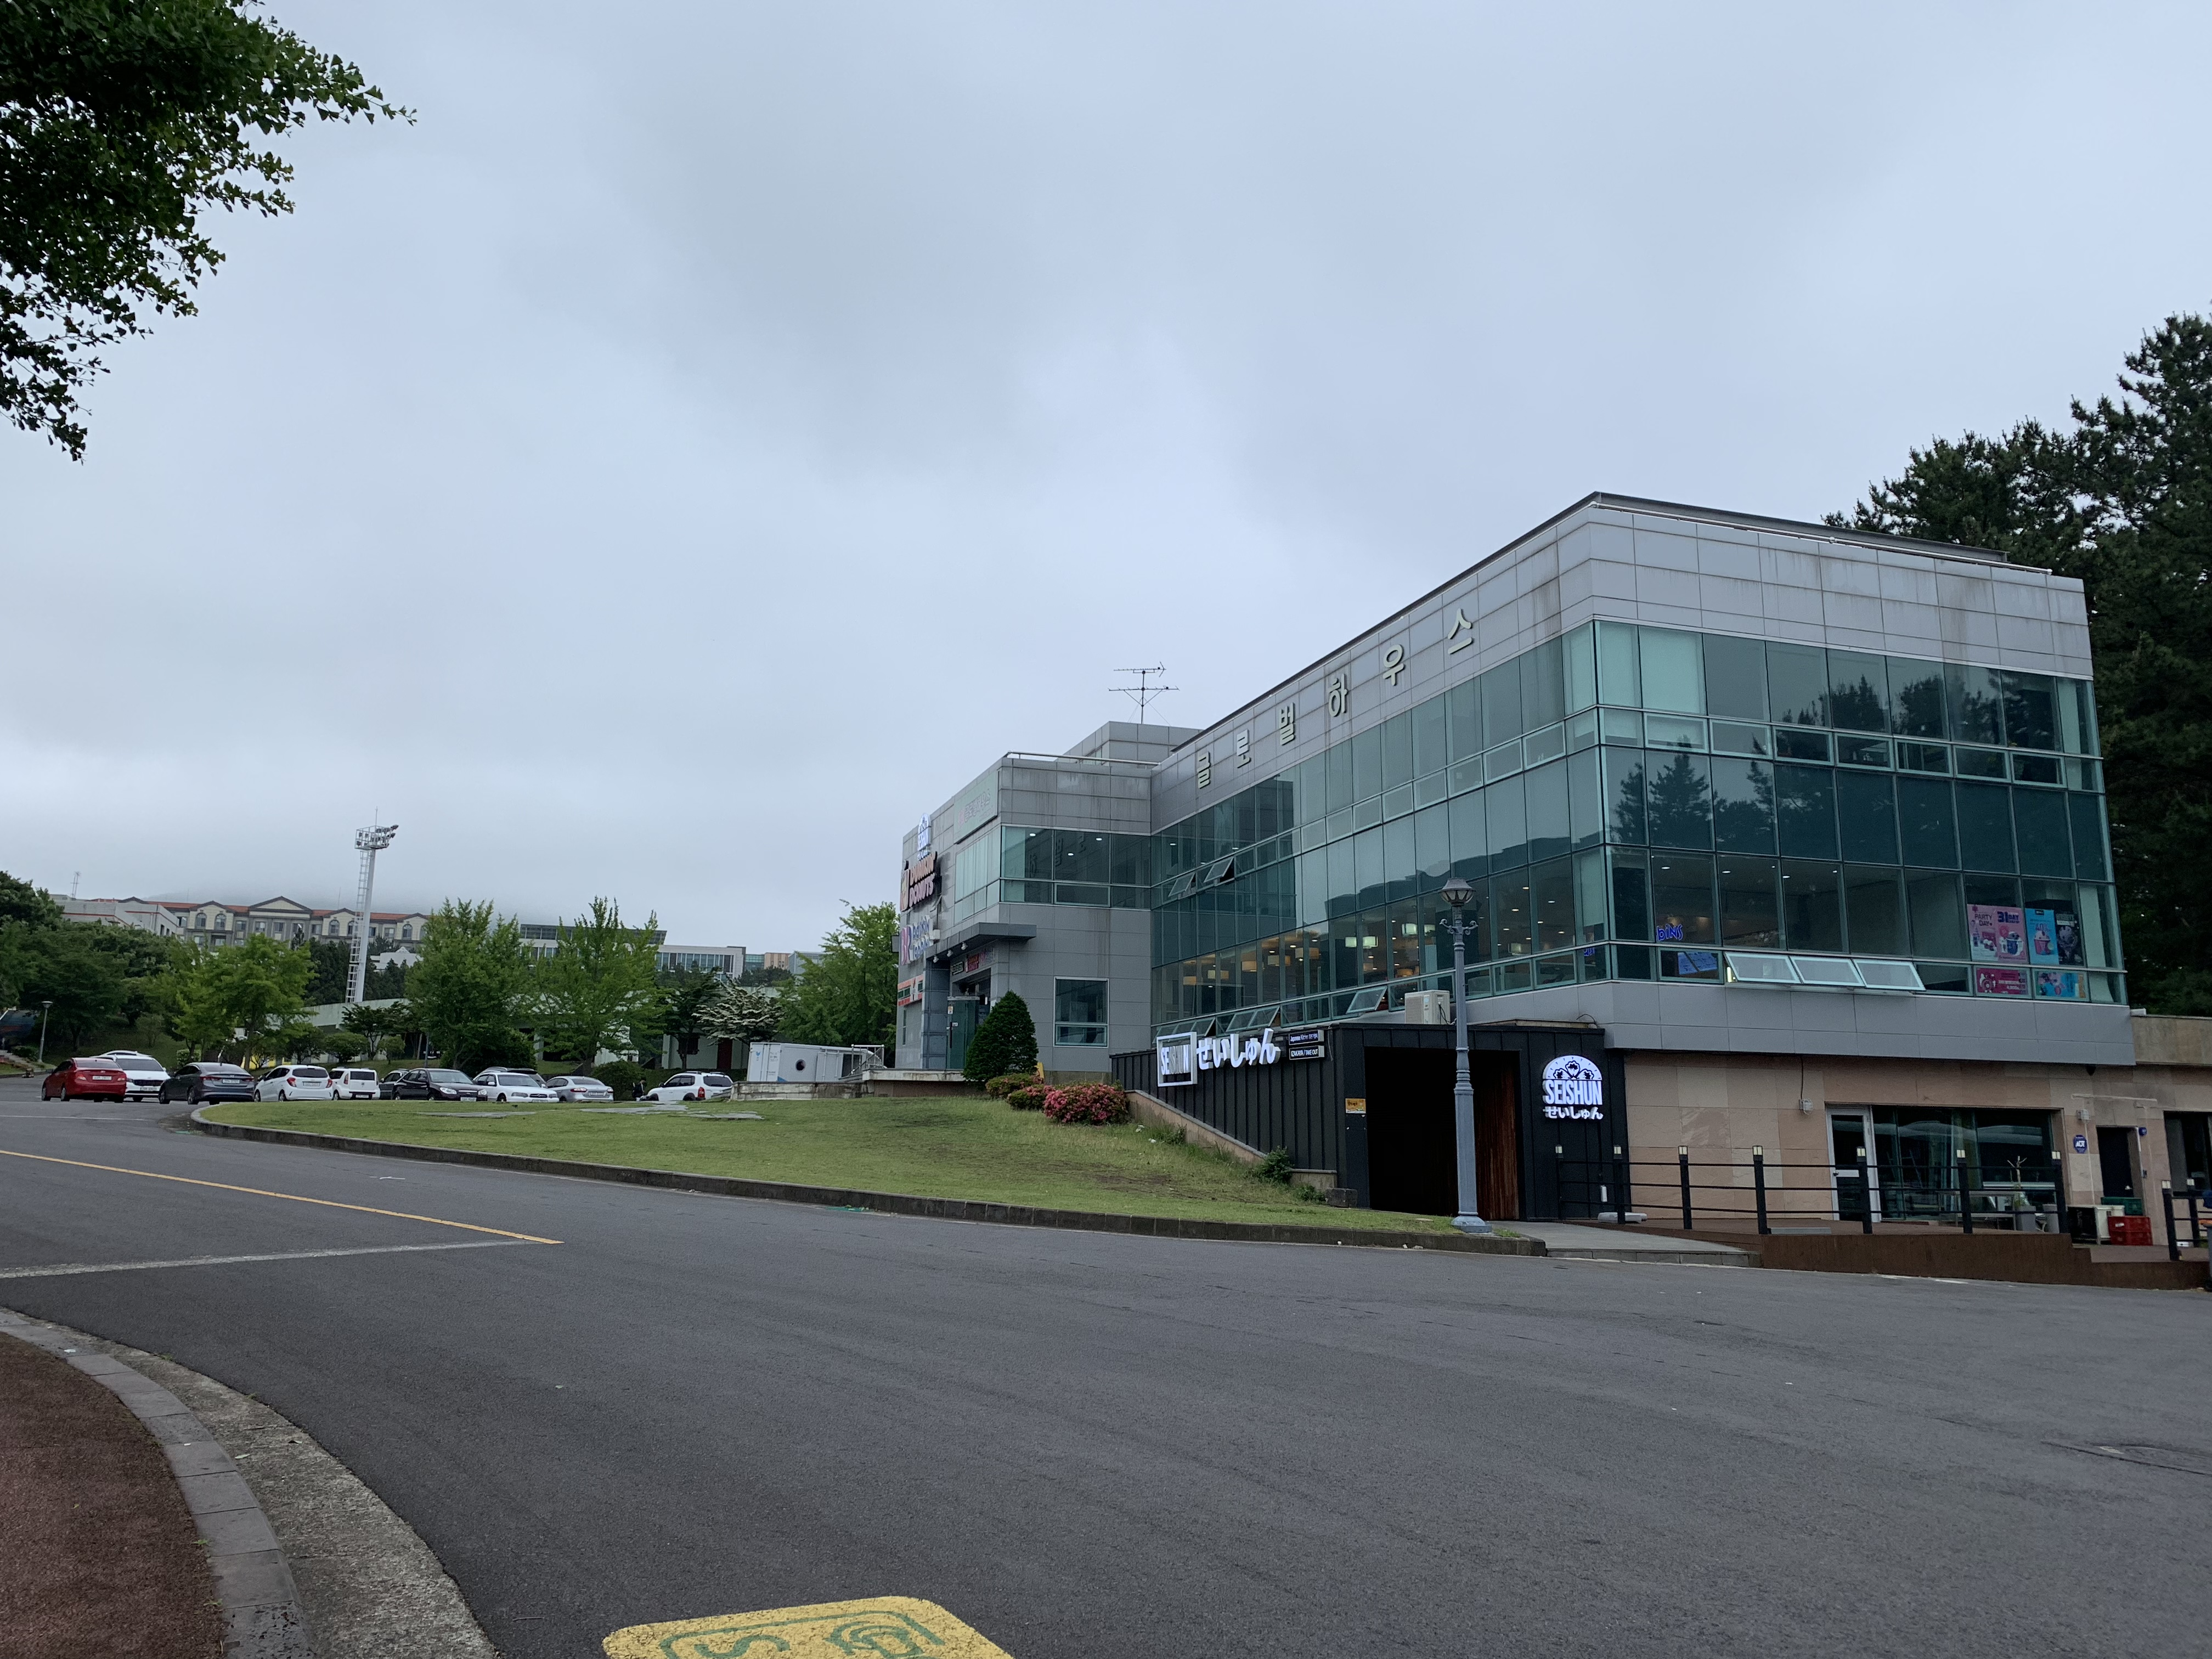Global House: (881, 495, 2188, 1157)
